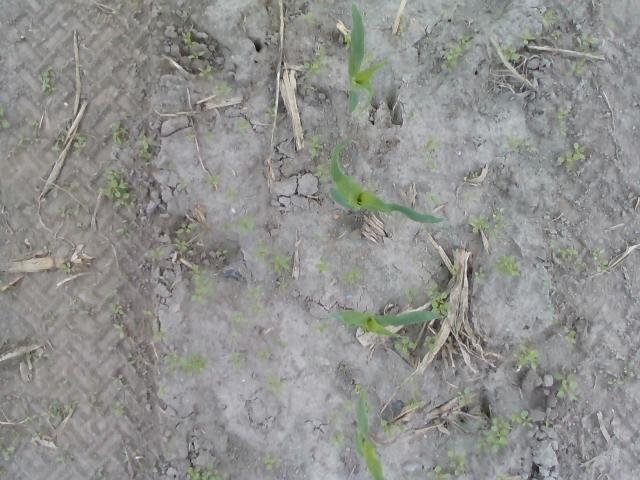Maize: (328, 137, 446, 223), (347, 2, 384, 114), (330, 306, 440, 335), (356, 398, 384, 480)
Weeds: (474, 408, 534, 456), (425, 448, 470, 480), (98, 169, 131, 209), (442, 32, 474, 73), (158, 352, 208, 377), (468, 208, 507, 240), (415, 136, 448, 172), (254, 239, 290, 272), (190, 263, 217, 306), (425, 282, 454, 314), (511, 342, 541, 372), (369, 417, 408, 440), (557, 141, 587, 169), (553, 371, 578, 401), (304, 46, 326, 80), (495, 135, 535, 153), (550, 318, 577, 344), (491, 255, 521, 278), (134, 134, 154, 168), (264, 372, 288, 400), (548, 239, 580, 258), (574, 33, 602, 54), (305, 128, 323, 160), (342, 265, 366, 289), (184, 464, 220, 480), (47, 400, 73, 422), (38, 64, 56, 94), (494, 41, 520, 61), (590, 246, 610, 272), (111, 120, 129, 148), (552, 109, 570, 136), (402, 286, 424, 307), (224, 350, 242, 373), (240, 213, 256, 238), (394, 336, 416, 354), (457, 384, 475, 406), (213, 82, 240, 96), (71, 134, 87, 157), (542, 7, 558, 30), (569, 58, 589, 75), (0, 102, 12, 130), (53, 206, 80, 218), (260, 452, 278, 470), (519, 25, 536, 44), (313, 164, 329, 184), (181, 30, 198, 48), (176, 222, 197, 236), (148, 241, 165, 258), (314, 255, 330, 273), (151, 326, 169, 342), (112, 322, 128, 340), (248, 302, 268, 316), (311, 320, 331, 334), (174, 238, 192, 253), (328, 431, 346, 446), (423, 334, 438, 352), (224, 186, 240, 202), (198, 64, 214, 80), (110, 400, 126, 416), (362, 176, 377, 193), (424, 190, 442, 204), (31, 120, 41, 145), (23, 352, 50, 361), (232, 120, 249, 134), (402, 398, 425, 408), (246, 286, 265, 298), (230, 312, 244, 328), (63, 180, 80, 193), (1, 447, 18, 460), (328, 410, 343, 424), (474, 265, 487, 281), (111, 304, 127, 317), (127, 352, 140, 368), (203, 128, 214, 146), (16, 130, 30, 144), (311, 229, 327, 241), (113, 226, 129, 238), (206, 175, 220, 188), (217, 222, 235, 232), (398, 12, 407, 32), (130, 0, 142, 15), (57, 127, 69, 142), (111, 375, 129, 385), (400, 375, 418, 385), (494, 471, 514, 480), (255, 350, 272, 360), (58, 262, 72, 274), (302, 12, 316, 24), (94, 469, 109, 480), (362, 52, 374, 64), (240, 14, 248, 32), (188, 51, 206, 59), (54, 452, 66, 464), (606, 377, 624, 385), (275, 277, 288, 288), (623, 366, 635, 377), (264, 105, 275, 117), (410, 385, 420, 398), (272, 339, 288, 347), (24, 415, 38, 424), (158, 384, 168, 396), (342, 400, 352, 412), (406, 110, 417, 120), (162, 446, 172, 457), (464, 191, 476, 200), (452, 262, 461, 274), (134, 463, 146, 472), (216, 248, 229, 256), (343, 35, 351, 48), (184, 132, 194, 142), (551, 31, 561, 40), (352, 384, 360, 395), (143, 308, 154, 316), (356, 111, 364, 120), (0, 467, 9, 475), (544, 419, 552, 428), (542, 280, 550, 288), (469, 170, 478, 177), (348, 151, 352, 166)
